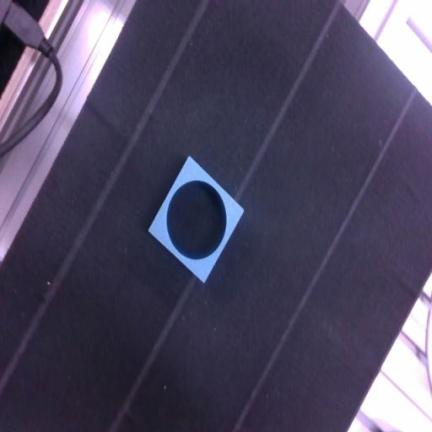hole: (149, 157, 243, 282)
